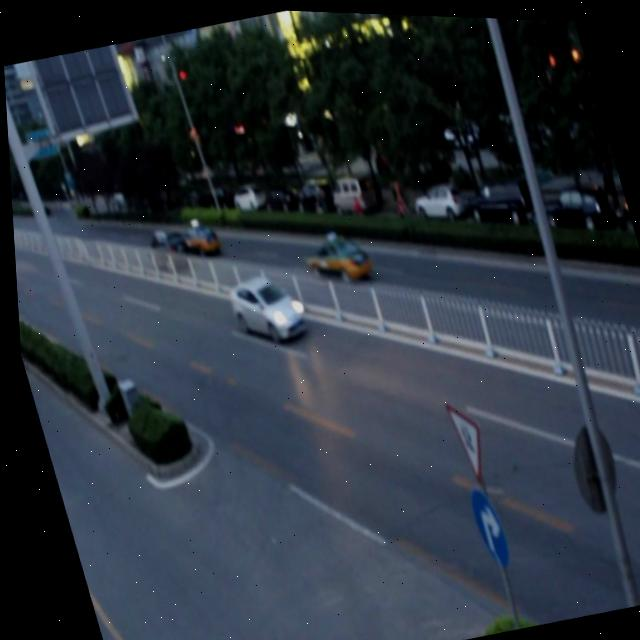car: (222, 268, 307, 347), (298, 225, 372, 286), (140, 227, 188, 272), (173, 215, 219, 257)
